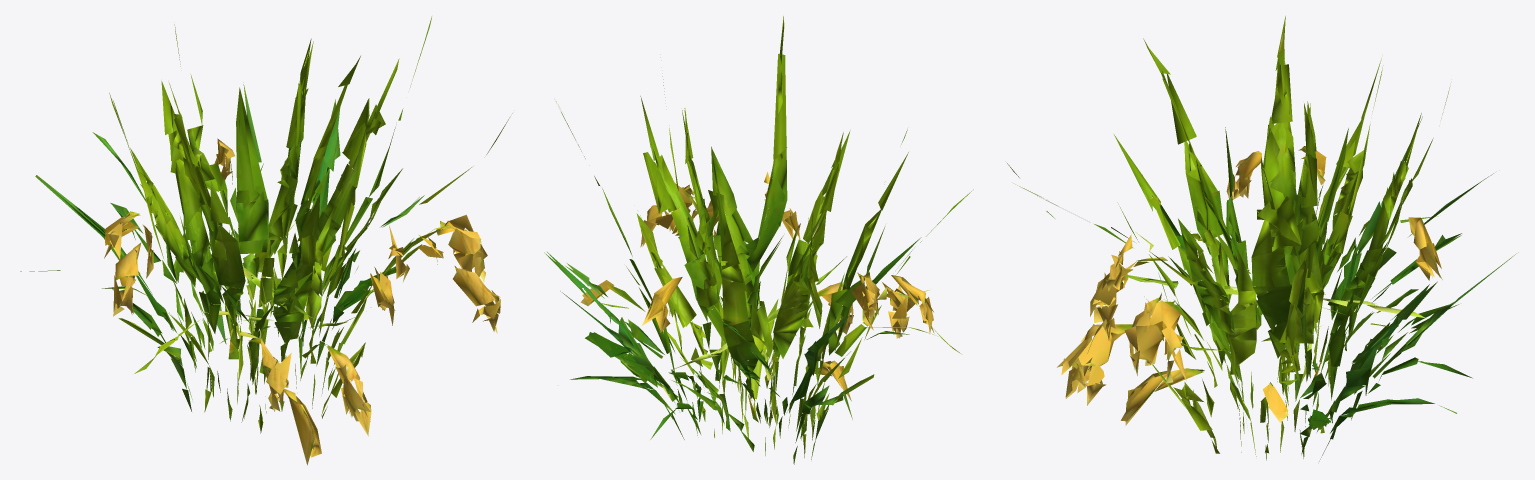
The model's file is rice-young.glb.
The picture shows the model from 3 angles, left to right: view 1: azimuth 30°, elevation 25°; view 2: azimuth 150°, elevation 25°; view 3: azimuth 270°, elevation 25°; orthographic projection. The views are drawn at different scales.
Parts seen in each view (by area): view 1: Mesh_0; view 2: Mesh_0; view 3: Mesh_0.
Boxes of the visible parts, left/top/right/bottom form: Mesh_0: left=20, top=16, right=512, bottom=465; Mesh_0: left=544, top=16, right=973, bottom=464; Mesh_0: left=1007, top=16, right=1518, bottom=461.
Bounding box in the file's own units: 0.769 × 0.7876 × 0.8763.
Materials: 1 (1 with a texture image).
